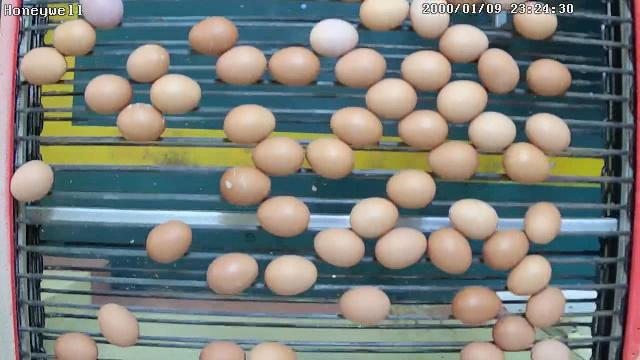egg: (205, 252, 260, 298), (148, 72, 203, 118), (256, 193, 312, 238), (263, 253, 319, 298), (222, 102, 276, 148), (364, 75, 418, 121), (436, 78, 489, 124), (267, 43, 322, 87), (333, 46, 389, 89), (339, 284, 393, 328), (396, 107, 450, 151), (252, 134, 306, 178), (374, 225, 427, 269), (313, 224, 366, 268), (399, 48, 453, 91), (330, 105, 384, 148), (480, 226, 530, 272), (467, 108, 517, 154), (306, 134, 356, 180), (427, 225, 472, 276), (84, 72, 136, 116), (437, 20, 489, 64), (115, 100, 167, 144), (216, 43, 268, 87), (428, 138, 480, 182), (384, 168, 438, 210), (218, 164, 272, 206), (144, 220, 193, 266), (348, 196, 399, 240), (8, 158, 56, 204), (502, 140, 551, 185), (448, 196, 498, 240), (450, 284, 502, 326), (506, 253, 553, 298), (19, 45, 69, 87), (478, 45, 520, 94), (308, 17, 359, 57), (188, 15, 239, 55), (98, 302, 142, 348), (525, 56, 573, 98), (524, 111, 572, 153), (125, 42, 171, 84), (512, 1, 560, 41), (50, 18, 99, 57), (490, 312, 537, 352), (525, 284, 567, 328), (523, 200, 563, 246)
